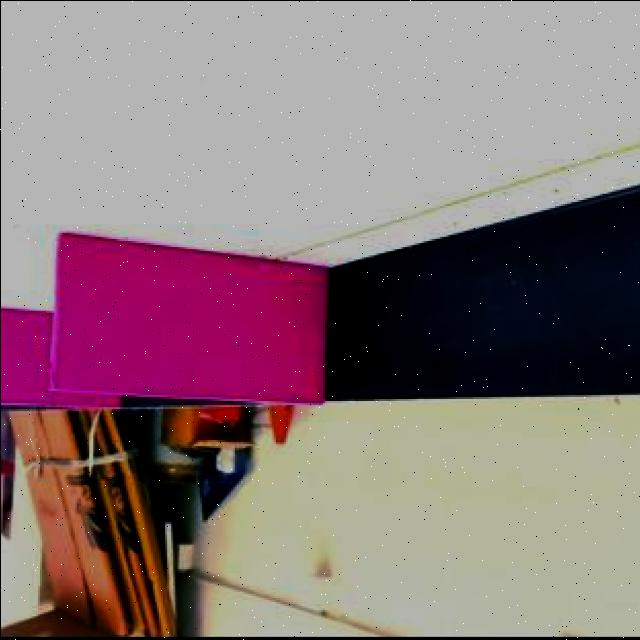xparking: (53, 246, 324, 392)
